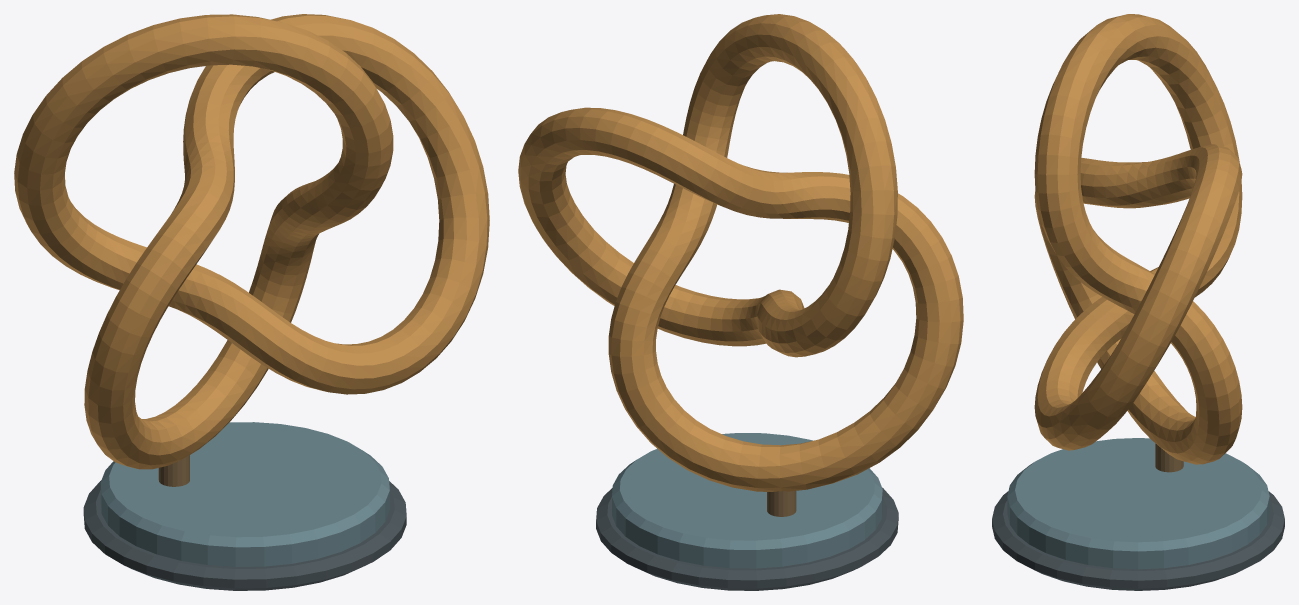
3 renders of one model, left to right at view 1: azimuth 30°, elevation 25°; view 2: azimuth 150°, elevation 25°; view 3: azimuth 270°, elevation 25°, orthographic. The views are drawn at different scales.
Parts seen in each view (by area): view 1: OneWholeContinuousSpatialKnotTube, WholeRaisedRoundPlinth, WholeLowGroundFoot, WholeShortFixedSupport; view 2: OneWholeContinuousSpatialKnotTube, WholeRaisedRoundPlinth, WholeLowGroundFoot, WholeShortFixedSupport; view 3: OneWholeContinuousSpatialKnotTube, WholeRaisedRoundPlinth, WholeLowGroundFoot, WholeShortFixedSupport.
Part boxes in pixels (<box>): OneWholeContinuousSpatialKnotTube: <box>14,14,489,469</box>; WholeRaisedRoundPlinth: <box>100,422,389,566</box>; WholeLowGroundFoot: <box>83,480,406,590</box>; WholeShortFixedSupport: <box>158,455,189,486</box>; OneWholeContinuousSpatialKnotTube: <box>518,14,963,491</box>; WholeRaisedRoundPlinth: <box>612,433,882,568</box>; WholeLowGroundFoot: <box>596,487,898,590</box>; WholeShortFixedSupport: <box>767,491,796,516</box>; OneWholeContinuousSpatialKnotTube: <box>1034,14,1242,464</box>; WholeRaisedRoundPlinth: <box>1007,438,1269,569</box>; WholeLowGroundFoot: <box>992,491,1284,590</box>; WholeShortFixedSupport: <box>1155,443,1183,472</box>.
Bounding box in the file's own units: 2.03 × 2.45 × 1.34.
